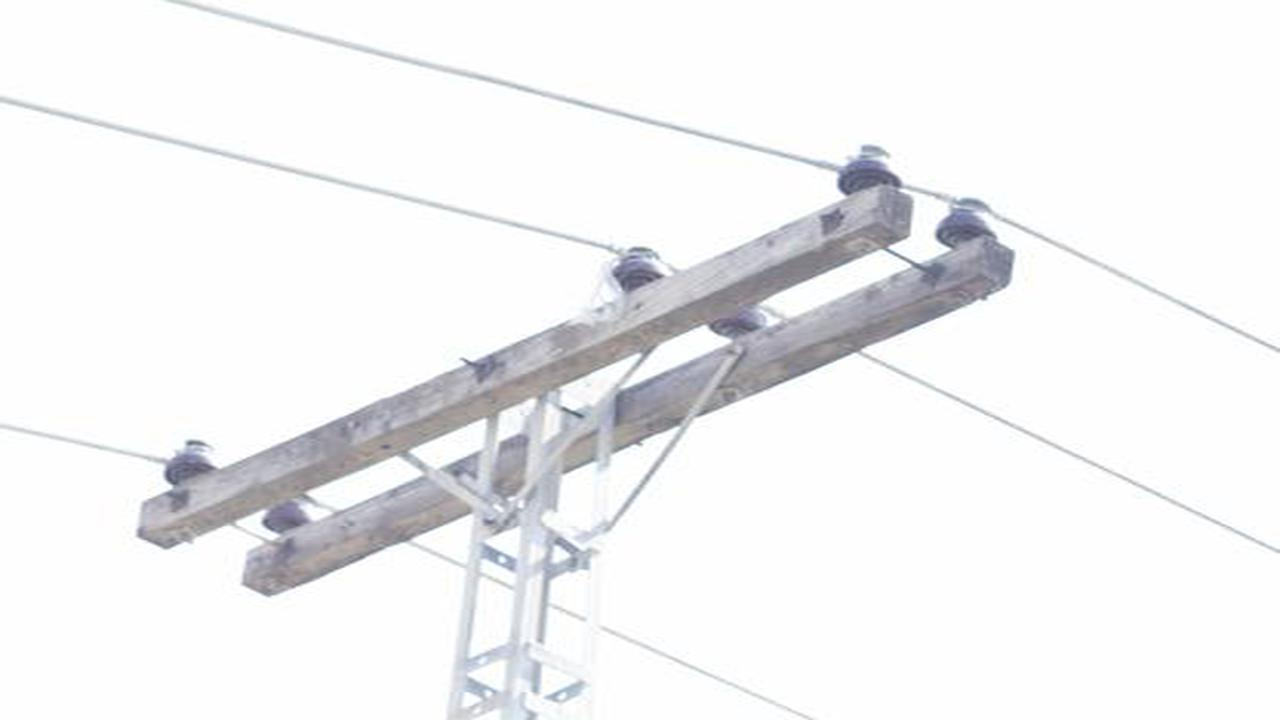insulator_pin: (931, 194, 1005, 251), (832, 143, 908, 197), (604, 239, 666, 293), (161, 435, 222, 485)
